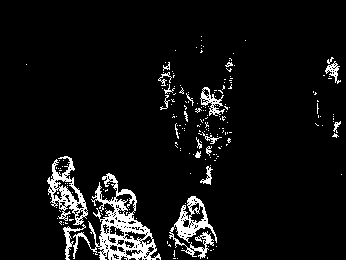person: (47, 154, 98, 257), (97, 189, 161, 260), (167, 194, 218, 260), (204, 89, 235, 187), (92, 171, 122, 256), (192, 85, 214, 158), (169, 84, 192, 148), (156, 62, 174, 111)
